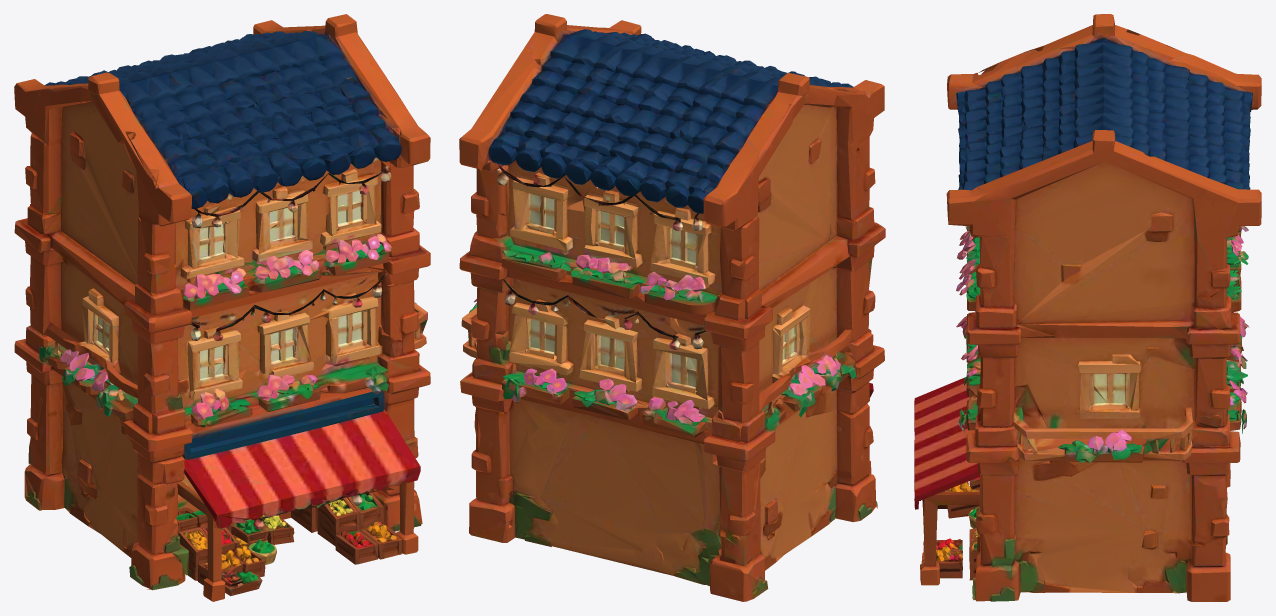
Rendered from street_b3.glb.
3 renders of one model, left to right at view 1: azimuth 30°, elevation 25°; view 2: azimuth 150°, elevation 25°; view 3: azimuth 270°, elevation 25°, orthographic. The views are drawn at different scales.
Visible parts, largest first — view 1: building_b3_orange; view 2: building_b3_orange; view 3: building_b3_orange.
Boxes of the visible parts, x1,y1,x2,y2 form: building_b3_orange: (14,14,430,601); building_b3_orange: (459,14,885,601); building_b3_orange: (914,14,1261,601).
Size of the model in its own units: 8.32 by 11 by 7.53.
Materials: 1 (1 with a texture image).
